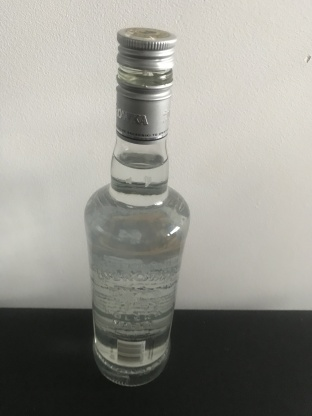nakretka: (114, 25, 178, 144)
